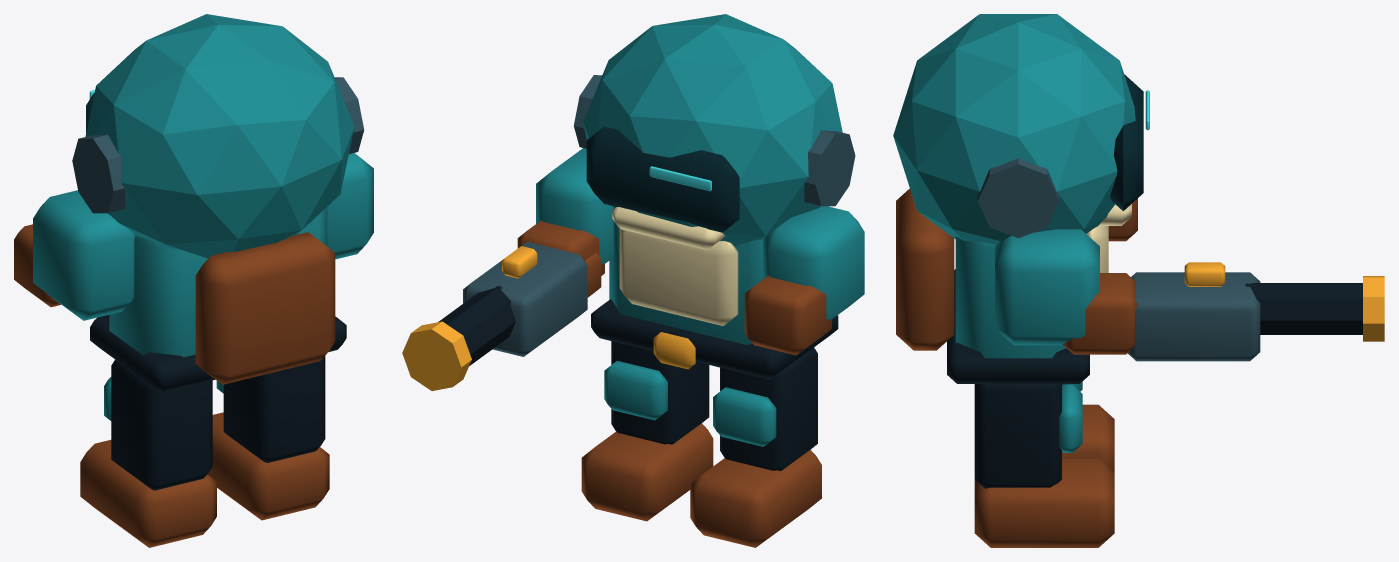
The model's file is ranger.glb.
The picture shows the model from 3 angles, left to right: view 1: azimuth 30°, elevation 25°; view 2: azimuth 150°, elevation 25°; view 3: azimuth 270°, elevation 25°; orthographic projection. The views are drawn at different scales.
Visible parts, largest first — view 1: Helmet, Pack, Sleeve, Trousers, Trousers.001, Torso, Boot, Boot.001, Belt, Sleeve.001, Ear, Glove (+1 smaller); view 2: Helmet, Face, Chest plate, Boot, Boot.001, Sleeve, Receiver, Trousers, Belt, Glove, Trousers.001, Sleeve.001 (+13 smaller); view 3: Helmet, Sleeve.001, Receiver, Boot.001, Trousers.001, Pack, Barrel, Torso, Ear.001, Belt, Glove.001, Face (+5 smaller).
Part boxes in pixels (<box>): Helmet: <box>85,14,354,258</box>; Pack: <box>195,232,335,384</box>; Sleeve: <box>33,190,135,320</box>; Trousers: <box>111,359,212,490</box>; Trousers.001: <box>223,356,325,462</box>; Torso: <box>109,207,327,357</box>; Boot: <box>80,440,216,547</box>; Boot.001: <box>207,412,329,520</box>; Belt: <box>90,315,346,392</box>; Sleeve.001: <box>327,153,373,259</box>; Ear: <box>72,134,125,213</box>; Glove: <box>14,224,61,307</box>; Helmet: <box>583,14,842,246</box>; Face: <box>586,126,739,232</box>; Chest plate: <box>619,228,738,325</box>; Boot: <box>690,450,821,547</box>; Boot.001: <box>581,423,713,521</box>; Sleeve: <box>763,206,864,320</box>; Receiver: <box>463,242,587,356</box>; Trousers: <box>720,347,817,470</box>; Belt: <box>591,299,838,379</box>; Glove: <box>744,275,831,355</box>; Trousers.001: <box>611,341,709,444</box>; Sleeve.001: <box>536,148,613,265</box>; Helmet: <box>893,14,1135,245</box>; Sleeve.001: <box>995,229,1099,345</box>; Receiver: <box>1128,272,1260,361</box>; Boot.001: <box>974,458,1114,547</box>; Trousers.001: <box>974,384,1061,488</box>; Pack: <box>896,188,954,350</box>; Barrel: <box>1245,283,1362,334</box>; Torso: <box>955,236,1065,358</box>; Ear.001: <box>977,158,1059,238</box>; Belt: <box>947,269,1089,383</box>; Glove.001: <box>1062,273,1137,354</box>; Face: <box>1110,74,1143,211</box>.
Size of the model in its own units: 1.2 by 1.84 by 1.69.
